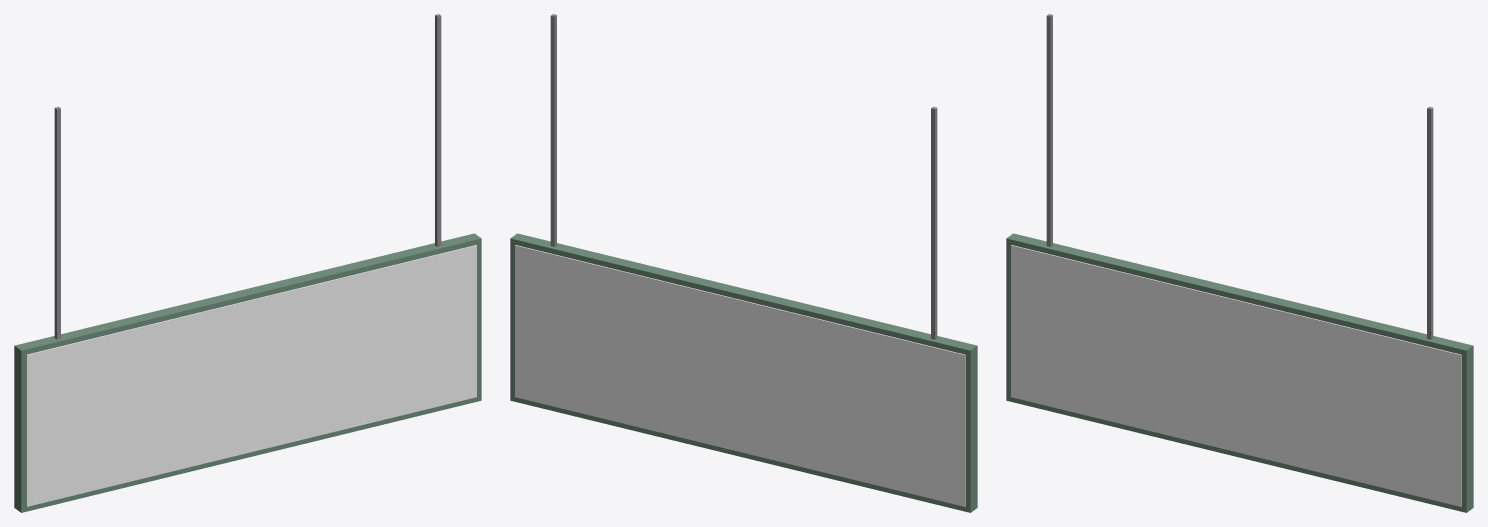
File: aislesign1.glb
The picture shows the model from 3 angles, left to right: view 1: azimuth 30°, elevation 25°; view 2: azimuth 150°, elevation 25°; view 3: azimuth 330°, elevation 25°; orthographic projection.
Parts seen in each view (by area): view 1: NC_aislesign1; view 2: NC_aislesign1; view 3: NC_aislesign1.
Part boxes in pixels (x1,y1,x2,y2): NC_aislesign1: [14, 14, 481, 512]; NC_aislesign1: [510, 14, 977, 512]; NC_aislesign1: [1006, 14, 1473, 512].
Bounding box in the file's own units: 0.92 × 0.75 × 0.028.
